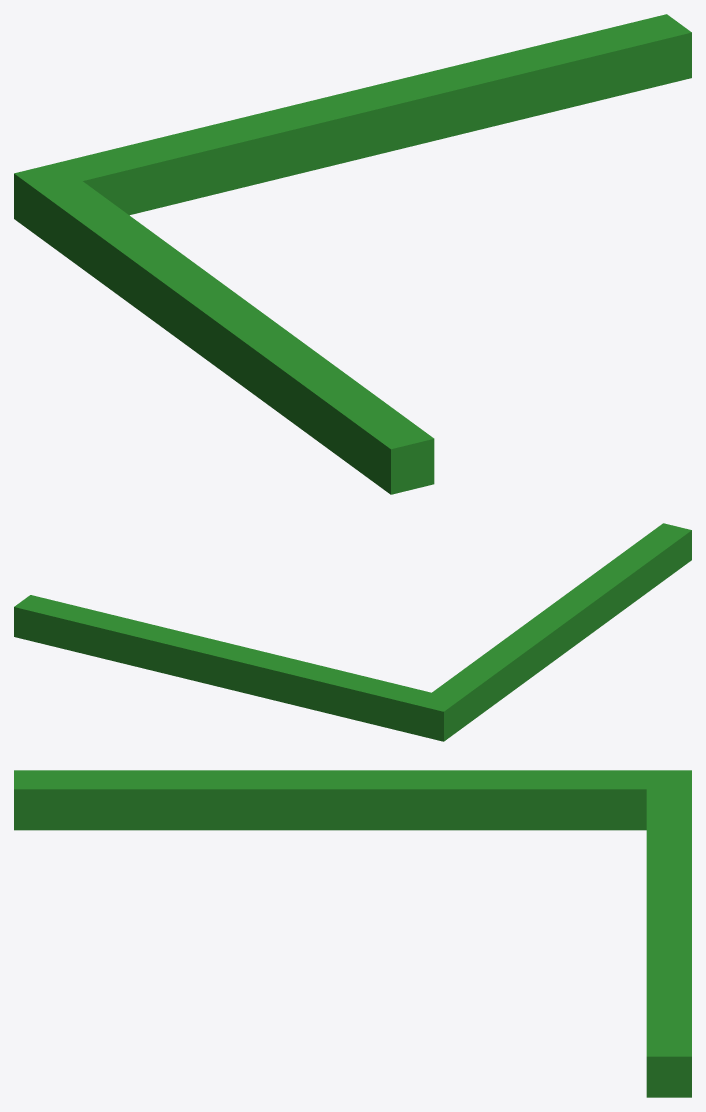
Rendered from map_Second_Stage-7.obj.
3 renders of one model, top to bottom at view 1: azimuth 30°, elevation 25°; view 2: azimuth 150°, elevation 25°; view 3: azimuth 270°, elevation 25°, orthographic. The views are drawn at different scales.
Size of the model in its own units: 15 by 1 by 15.
Materials: 1 (1 with a texture image).
